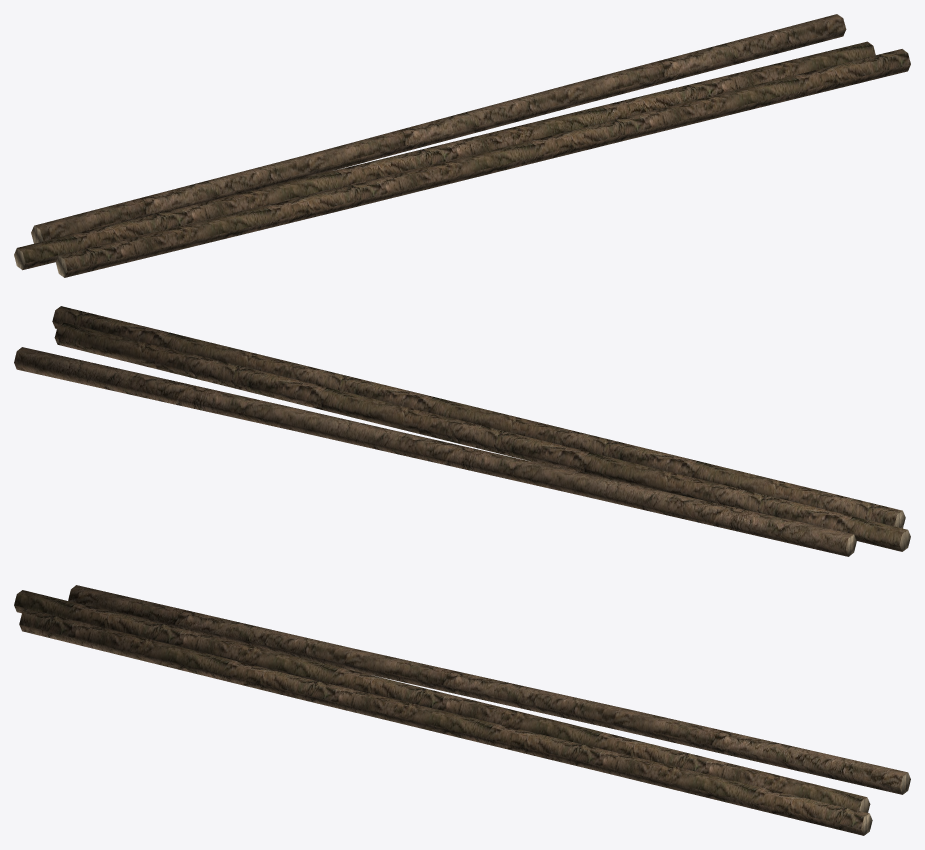
Rendered from kit_sr_rails_down_p.glb.
3 renders of one model, top to bottom at view 1: azimuth 30°, elevation 25°; view 2: azimuth 150°, elevation 25°; view 3: azimuth 330°, elevation 25°, orthographic.
Parts seen in each view (by area): view 1: kit_sr_rails_down_p; view 2: kit_sr_rails_down_p; view 3: kit_sr_rails_down_p.
Boxes of the visible parts, box(x1,y1,x2,y2) form: kit_sr_rails_down_p: box(14, 14, 910, 277); kit_sr_rails_down_p: box(14, 306, 910, 556); kit_sr_rails_down_p: box(14, 585, 910, 835).
Size of the model in its own units: 3.28 by 0.0681 by 0.4231.
1 material, 1 textured.
